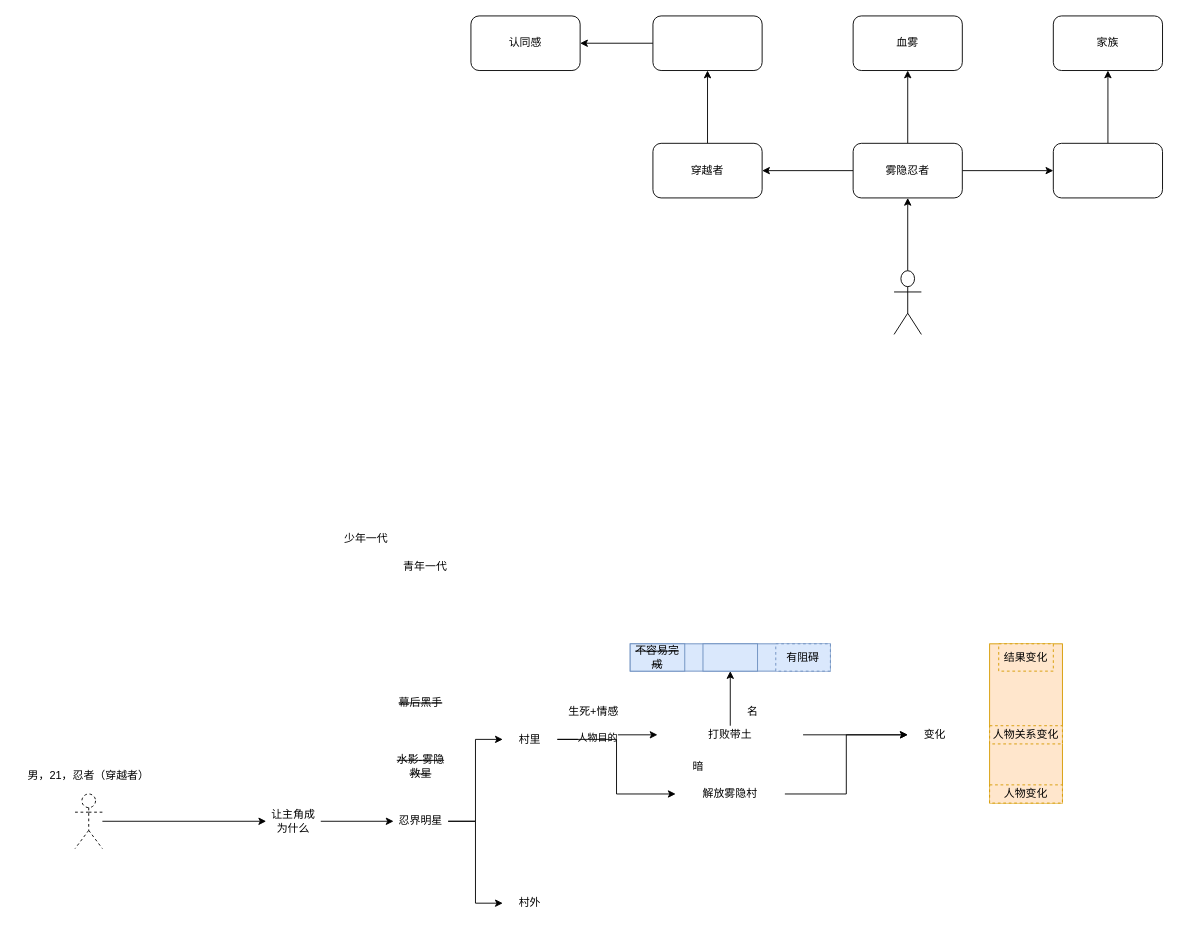
Image size: 1178x933. Some labels were removed from this diagram. Here are the shapes that lost their labels. From the top down, the centre of each, then its label:
[707,43]: 金手指
[1107,170]: 鬼灯一组
[907,302]: 鬼灯山月
[730,657]: 被动
[88,821]: 山月
